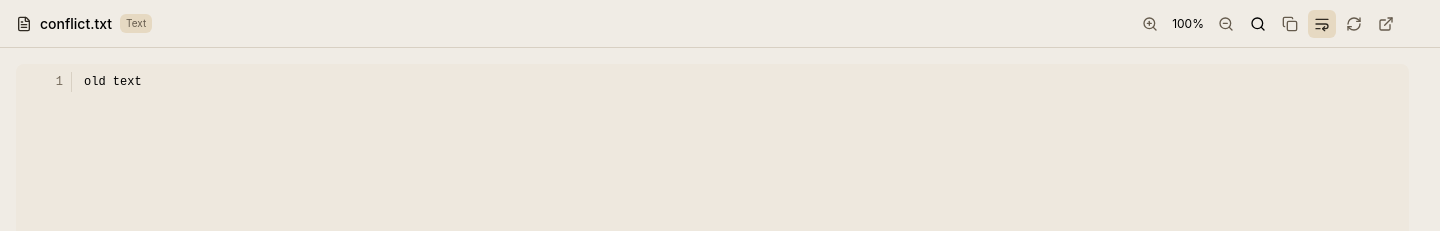
Scenario: Document tools › keeps original text visible when a replacement save conflicts
Expected: the text "old text" is shown, [84,75,142,89]
Step 1. Click the button named "Find in file" → x=1258, y=24, box [1244,10,1272,38]
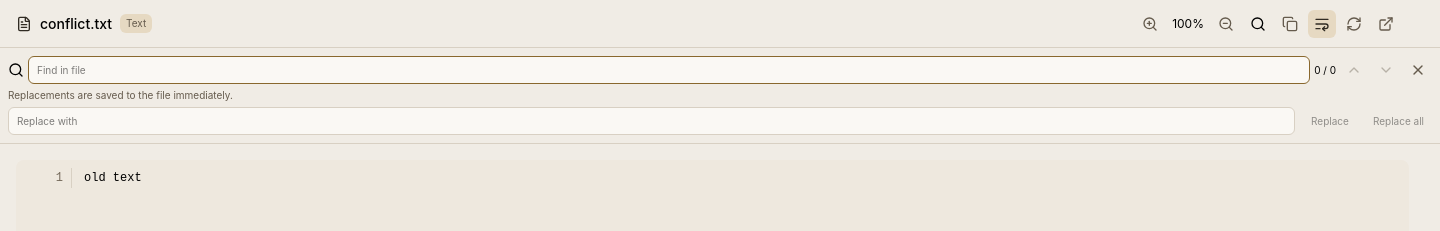
Step 2. Type "old" into the field labelled "Find in file" → x=669, y=70, box [28,56,1310,84]
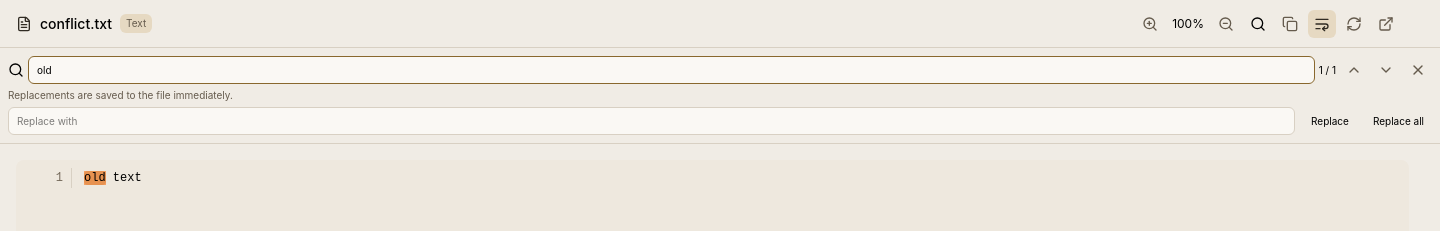
Step 3. Type "new" into the field labelled "Replace with" → x=652, y=121, box [8,107,1295,135]
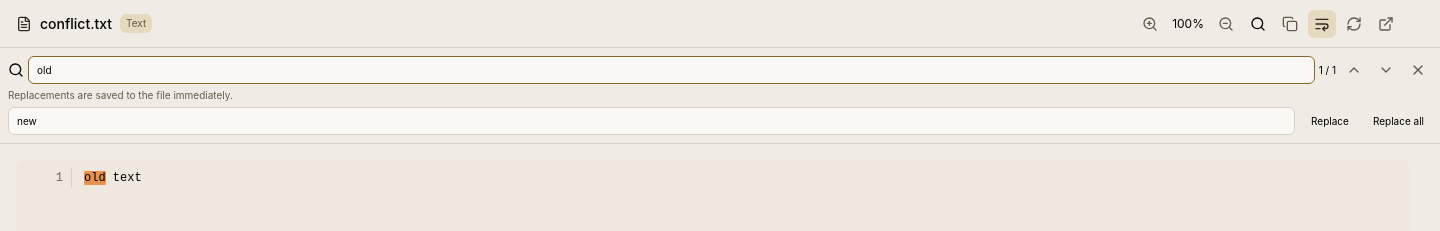
Step 4. Click the button "Replace all" → x=1398, y=121, box [1365,110,1432,132]
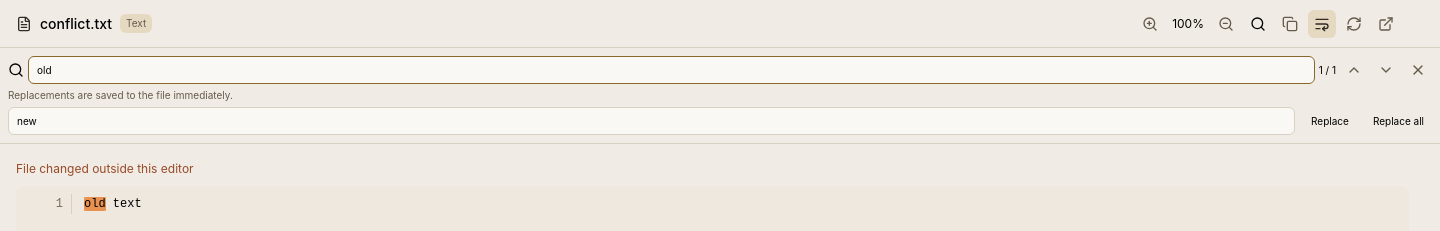
Expected: the text "old text" is shown, [84,197,142,211]
Expected: the text "File changed outside this editor" is shown, [16,161,194,176]
